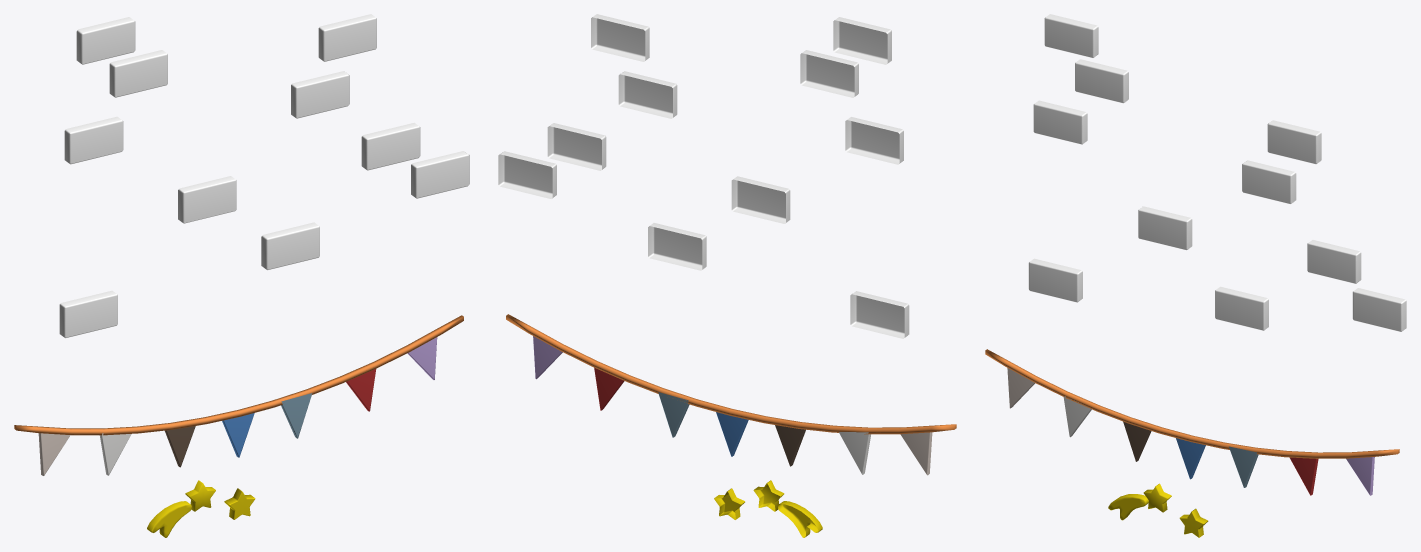
The model's file is Play_Room_Wall_Props.fbx.
The picture shows the model from 3 angles, left to right: view 1: azimuth 30°, elevation 25°; view 2: azimuth 150°, elevation 25°; view 3: azimuth 330°, elevation 25°; orthographic projection. The views are drawn at different scales.
Visible parts, largest first — view 1: Wall_1, Flags, Neon_Falling_Star_1, Neon_Star_1; view 2: Wall_1, Flags, Neon_Falling_Star_1, Neon_Star_1; view 3: Wall_1, Flags, Neon_Falling_Star_1.
Part boxes in pixels (x1,y1,x2,y2): Wall_1: [59, 14, 469, 338]; Flags: [14, 315, 463, 475]; Neon_Falling_Star_1: [147, 480, 215, 537]; Neon_Star_1: [224, 488, 255, 519]; Wall_1: [498, 14, 909, 338]; Flags: [506, 314, 956, 475]; Neon_Falling_Star_1: [753, 480, 822, 537]; Neon_Star_1: [714, 488, 744, 519]; Wall_1: [1028, 14, 1406, 331]; Flags: [985, 349, 1399, 495]; Neon_Falling_Star_1: [1108, 483, 1171, 520].
Size of the model in its own units: 501 by 555 by 10.55.
